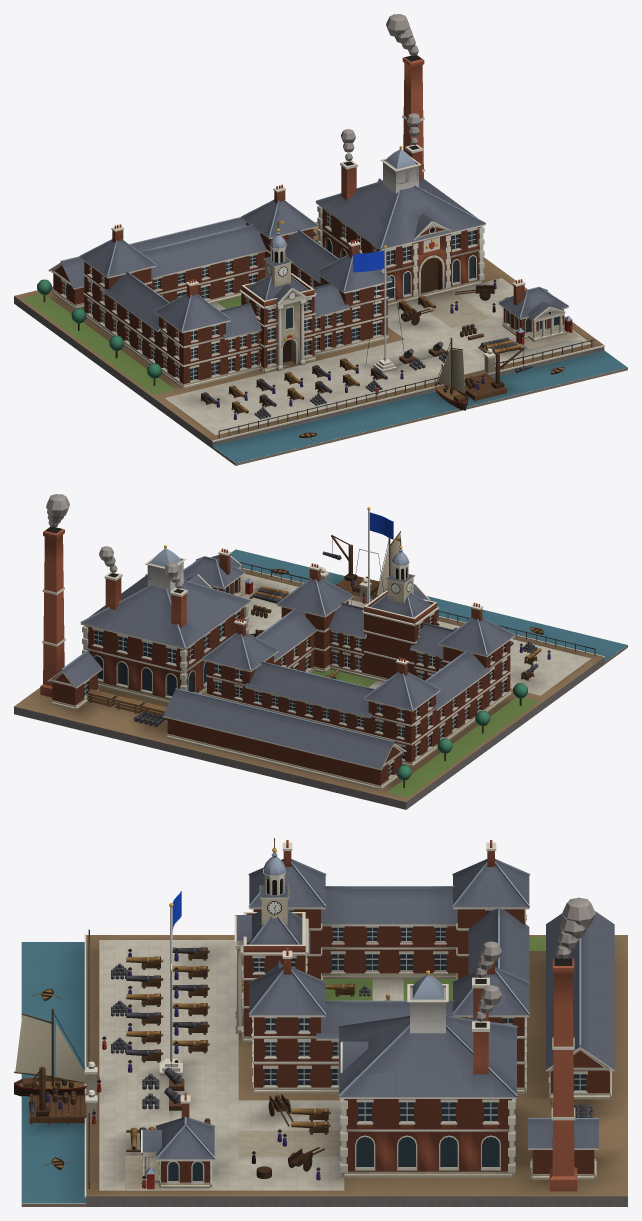
Rendered from lm_woolwich.glb.
3 views of the same model, one above another, from view 1: azimuth 30°, elevation 25°; view 2: azimuth 150°, elevation 25°; view 3: azimuth 270°, elevation 25° (orthographic). The views are drawn at different scales.
Parts seen in each view (by area): view 1: lm_woolwich; view 2: lm_woolwich; view 3: lm_woolwich.
Part boxes in pixels (box(x1,y1,x2,y2)): lm_woolwich: box(14, 14, 627, 465); lm_woolwich: box(14, 494, 627, 809); lm_woolwich: box(14, 838, 627, 1206).
Size of the model in its own units: 2.4 by 1.25 by 2.38.
1 material, 1 textured.
